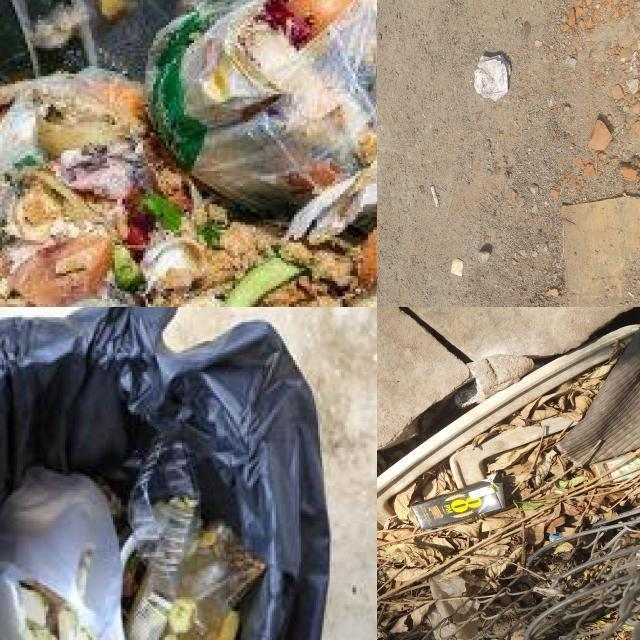Background: (377, 0, 640, 307)
Cig_bud: (430, 185, 439, 206)
Garbage: (0, 131, 377, 307), (0, 396, 271, 640), (149, 0, 377, 212)
Plastic_Bag: (0, 467, 127, 640), (0, 467, 125, 640), (127, 522, 265, 640)
Plastic_wraper: (626, 49, 633, 59)
contaminated_waste: (126, 425, 208, 596)
top_view_waste: (0, 307, 329, 640)
